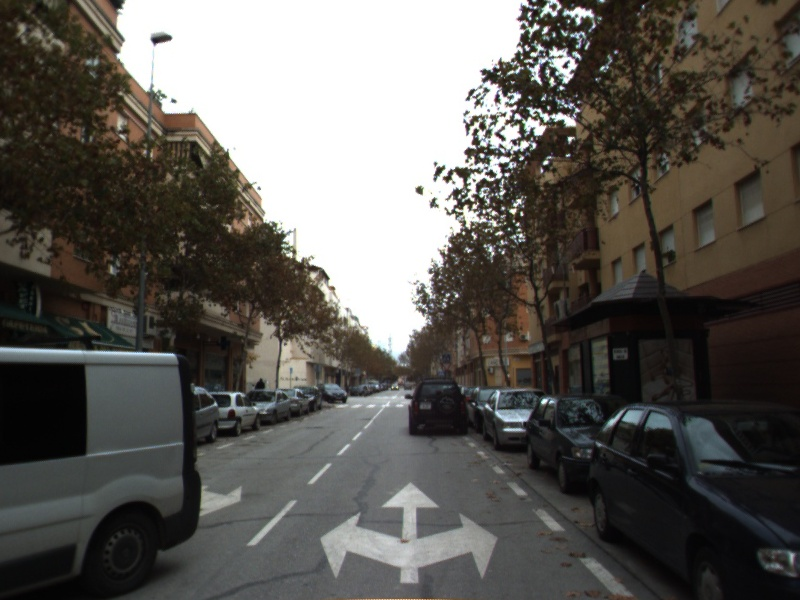STRAIGHT_LEFT_RIGHT: (316, 477, 502, 587)
